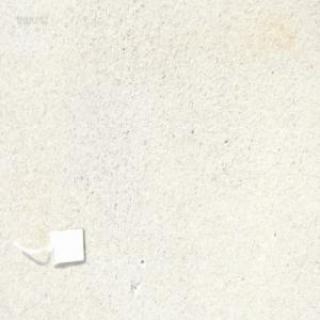LuggageTagtrack_idkeyframe: (11, 225, 88, 270)
